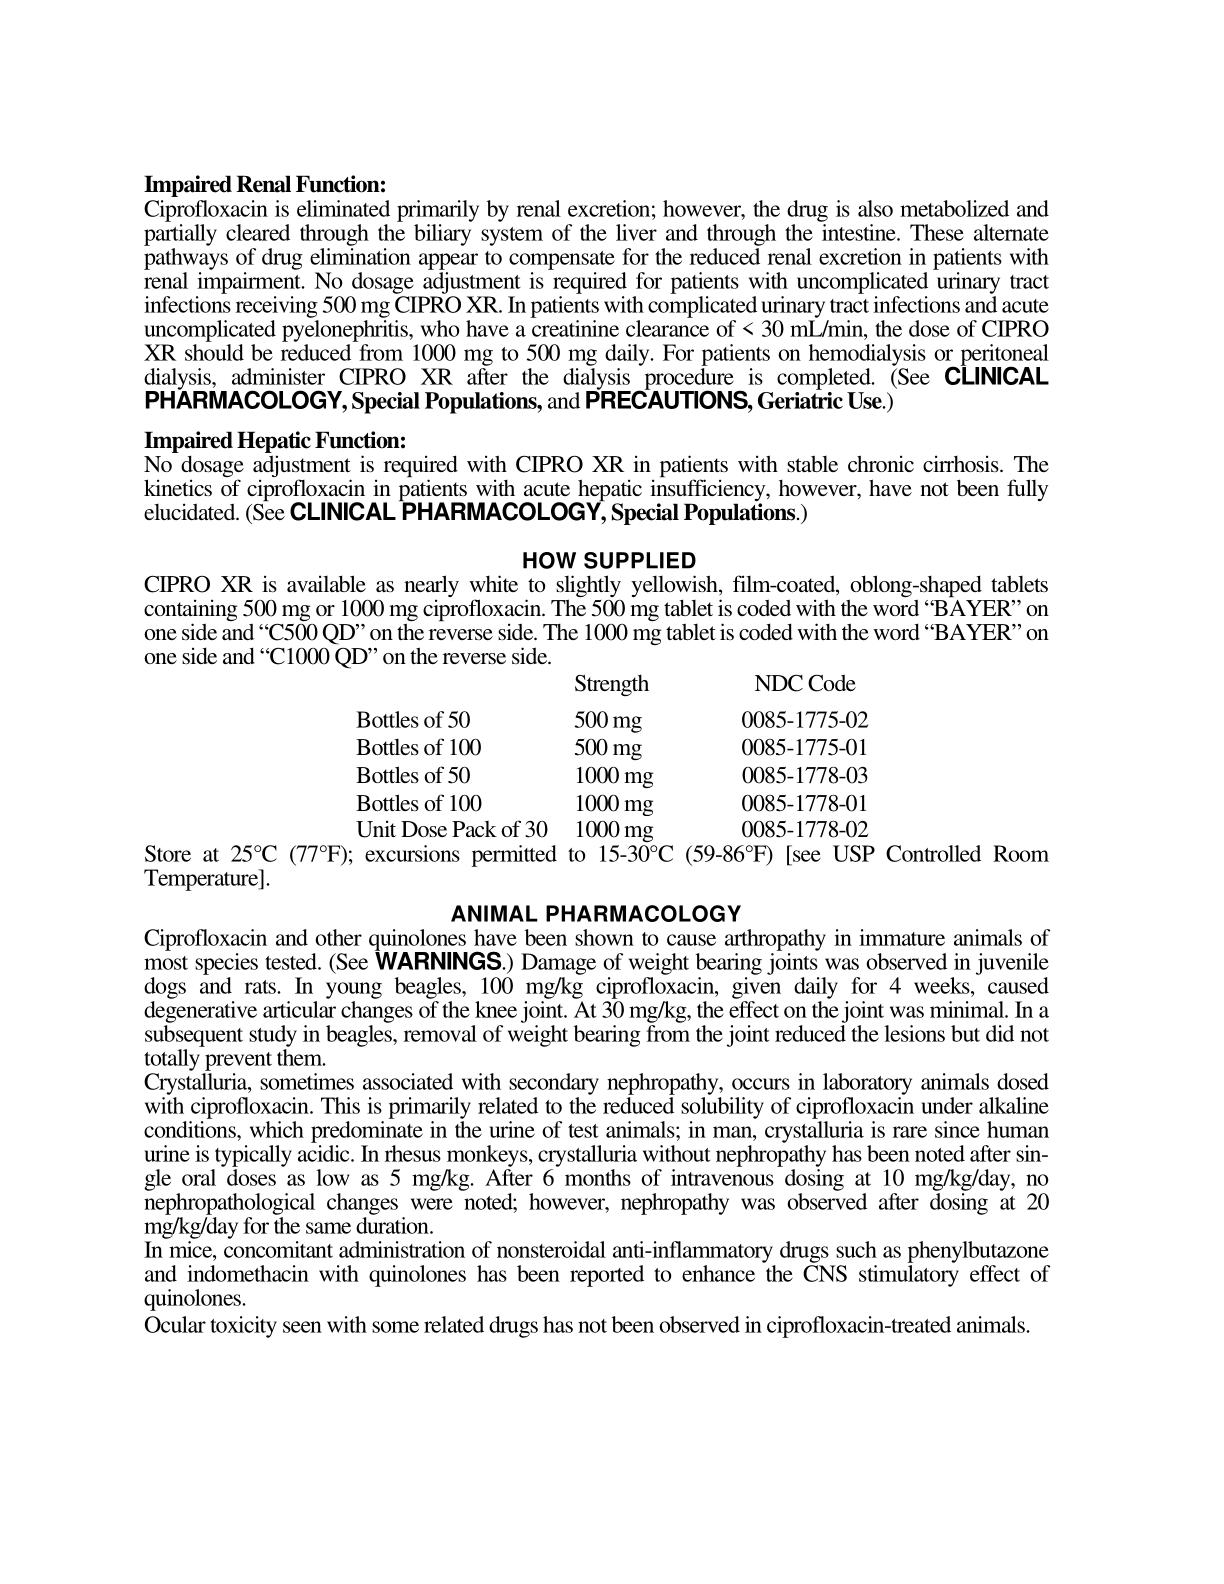nolines: (354, 672, 874, 841)
